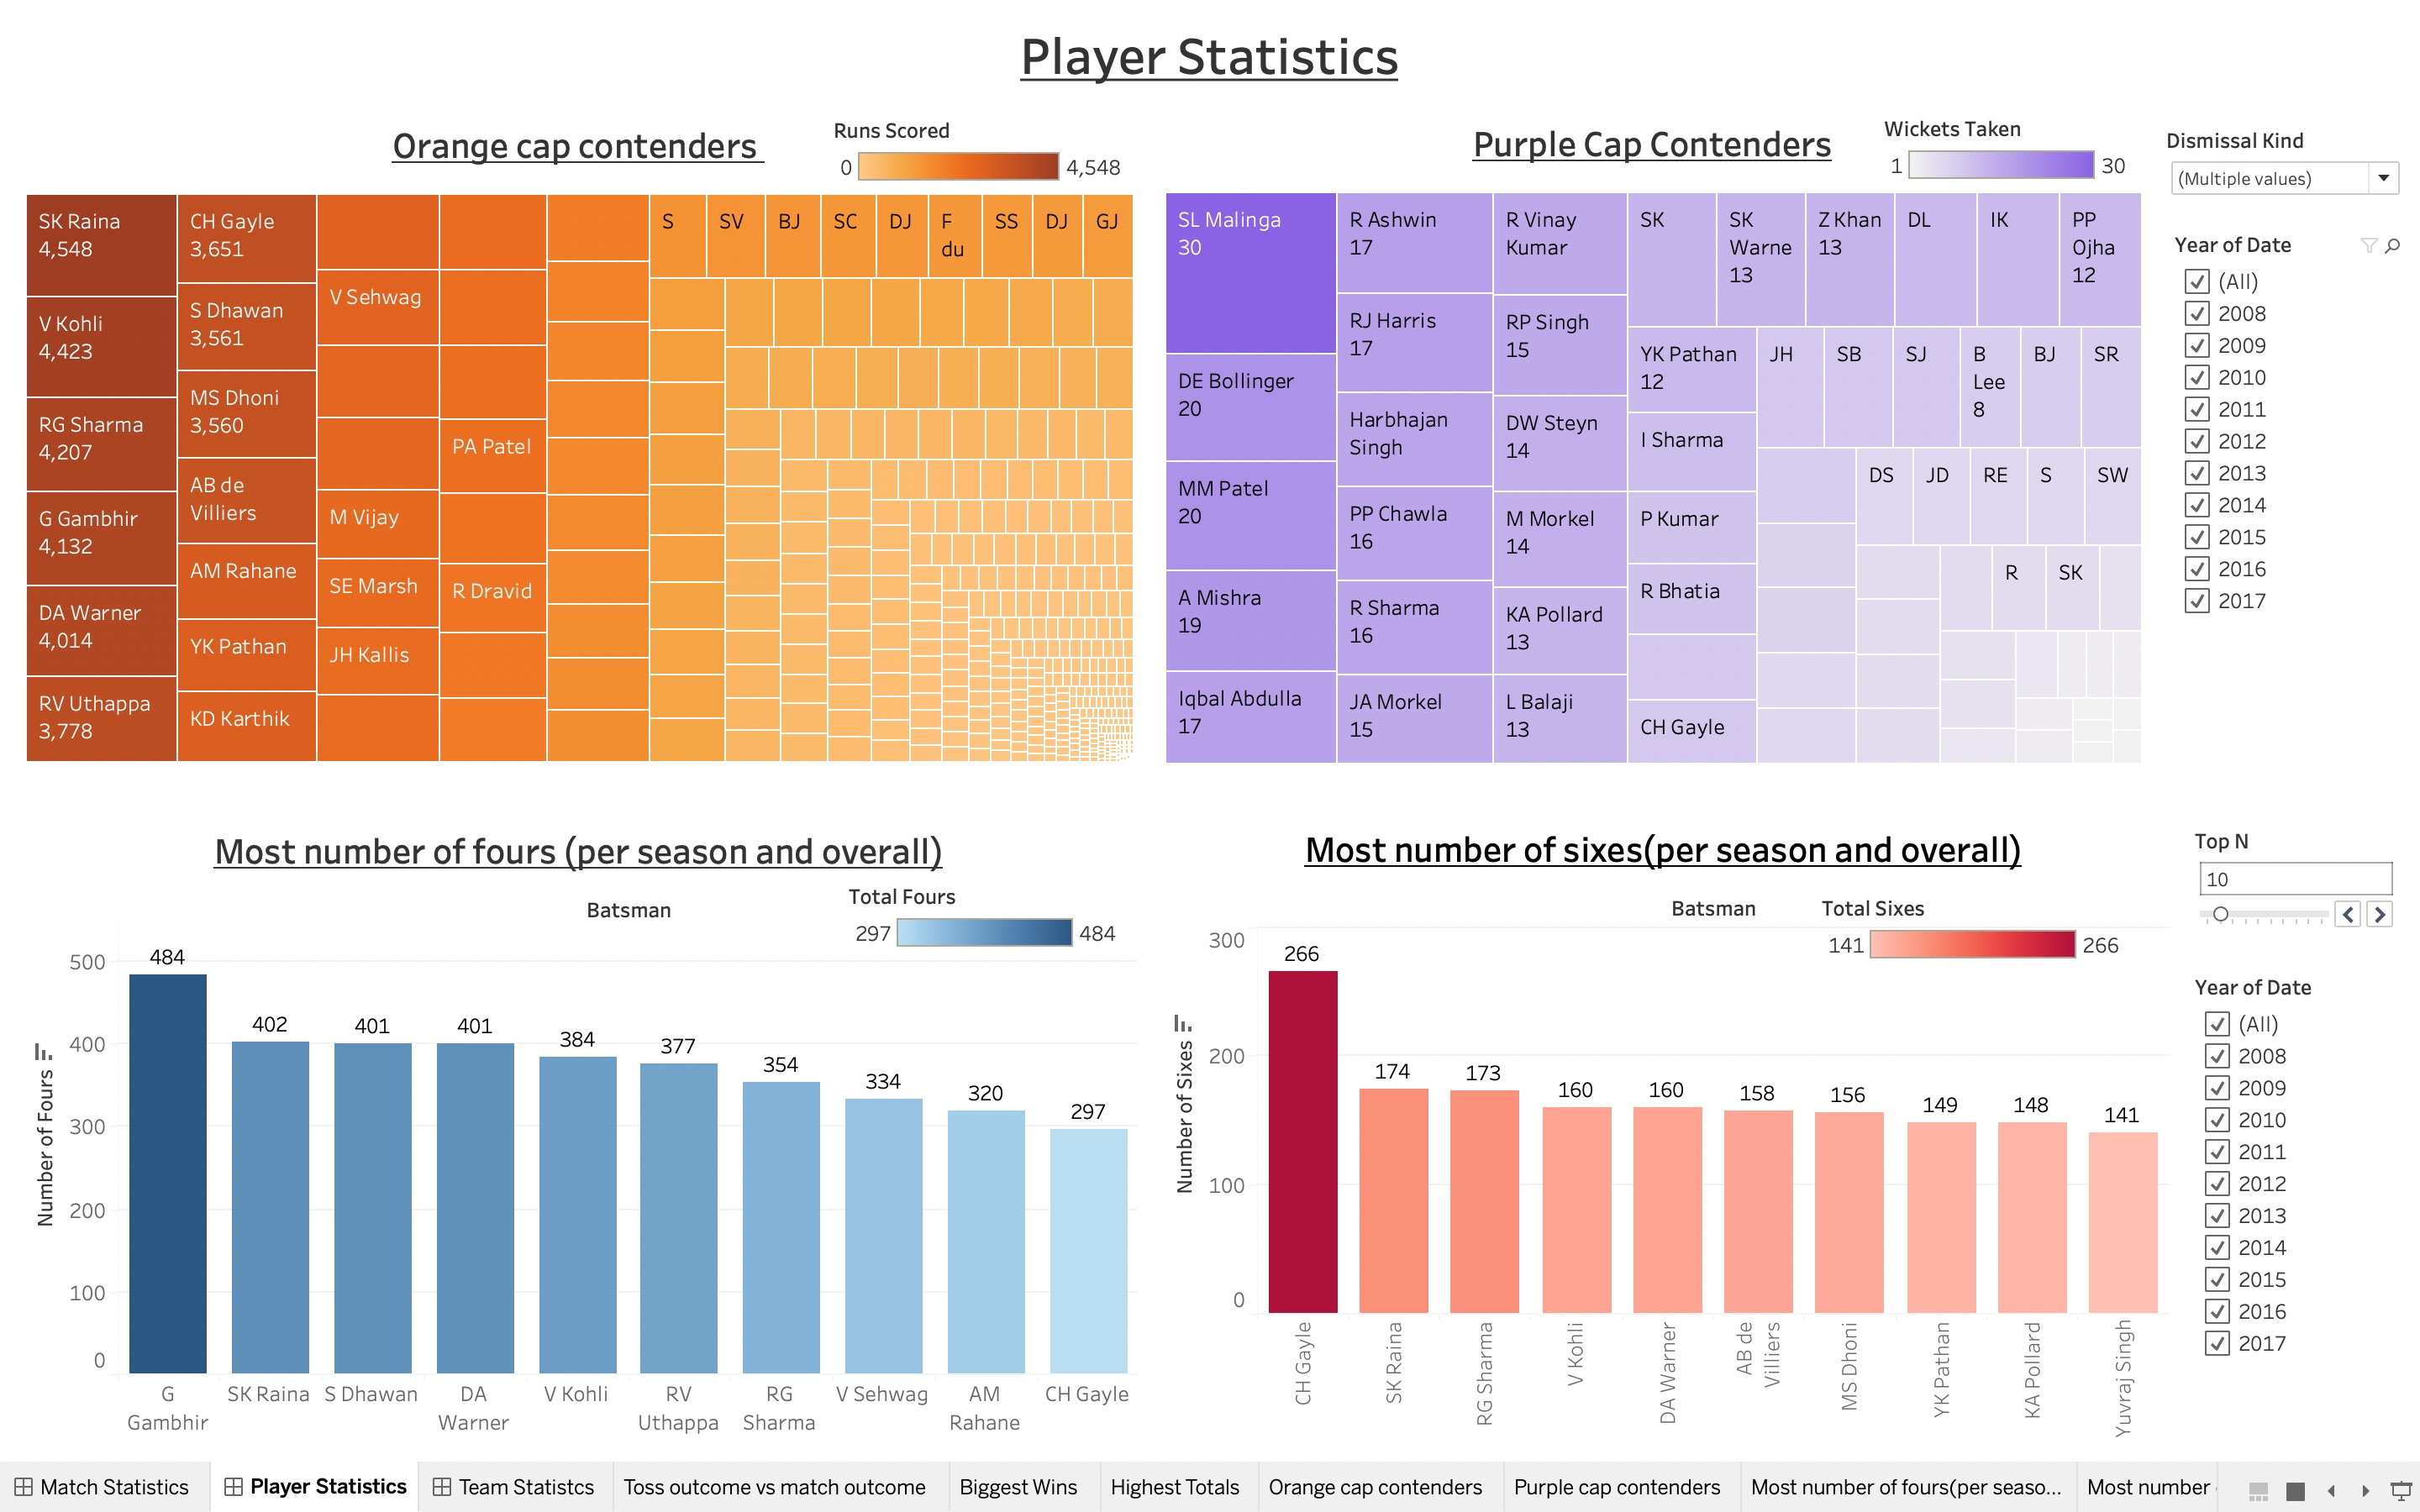

This screenshot's page, from the dashboard's own definition file:
{"tool":"tableau","page":{"name":"Player Statistics","canvas":[1000,1000],"units":"permille","ordinal":1},"visuals":[{"type":"title","box":[5.7,9.9,988.7,59.4]},{"type":"worksheet","title":"Purple cap contenders","mark":"Automatic","box":[478.4,76.7,409,450.5]},{"type":"worksheet","title":"Orange cap contenders","mark":"Automatic","box":[7.4,78,462.9,448]},{"type":"legend","title":"Purple cap contenders","param":"[Clipboard_20220606T232057].[ctd:player_dismissed:qk]","box":[778.8,78,103.7,53.2]},{"type":"legend","title":"Orange cap contenders","param":"[federated.1izga6q03dv54312r5zsh167bm26].[sum:batsman_runs:qk]","box":[344.5,79.2,122.5,48.3]},{"type":"filter","title":"Purple cap contenders","param":"[Clipboard_20220606T232057].[none:dismissal_kind:nk]","box":[895,86.3,98.5,66.2]},{"type":"filter","title":"Orange cap contenders","param":"[federated.1izga6q03dv54312r5zsh167bm26].[yr:date:ok]","box":[898.3,157.2,95.2,362.6]},{"type":"worksheet","title":"Most number of sixes(per season and overall)","mark":"Automatic","rows":["Calculation_351491919785746439"],"cols":["batsman"],"box":[478.4,559.4,418.2,425.7]},{"type":"worksheet","title":"Most number of fours(per season and overall)","mark":"Bar","rows":["Calculation_351491919785050118"],"cols":["batsman"],"box":[7.3,560.6,463,425.7]},{"type":"parameter","param":"[Parameters].[Parameter 2]","box":[907.2,565.6,83.8,91.6]},{"type":"legend","title":"Most number of fours(per season and overall)","param":"[Clipboard_20220606T232057].[sum:Calculation_351491919785050118:qk]","box":[350.7,604,113.9,53.2]},{"type":"legend","title":"Most number of sixes(per season and overall)","param":"[Clipboard_20220606T232057].[sum:Calculation_351491919785746439:qk]","box":[752.6,611.4,126.1,55.7]},{"type":"filter","title":"Most number of fours(per season and overall)","param":"[Clipboard_20220606T232057].[yr:date:ok]","box":[906.9,665.8,84.9,294.6]}]}

Visuals, with their boxes on the dashboard's canvas, which has no fixed pixel size, in thousandths of its width and height (x1, y1, x2, y2). These are canvas units, not pixel positions in the 2420x1512 screenshot, which may show the page scaled, cropped or inside an application window:
title: 6,10,994,69
"Purple cap contenders" worksheet: 478,77,887,527
"Orange cap contenders" worksheet: 7,78,470,526
"Purple cap contenders" legend: 779,78,882,131
"Orange cap contenders" legend: 344,79,467,128
"Purple cap contenders" filter: 895,86,994,152
"Orange cap contenders" filter: 898,157,994,520
"Most number of sixes(per season and overall)" worksheet: 478,559,897,985
"Most number of fours(per season and overall)" worksheet (Bar marks): 7,561,470,986
parameter: 907,566,991,657
"Most number of fours(per season and overall)" legend: 351,604,465,657
"Most number of sixes(per season and overall)" legend: 753,611,879,667
"Most number of fours(per season and overall)" filter: 907,666,992,960
